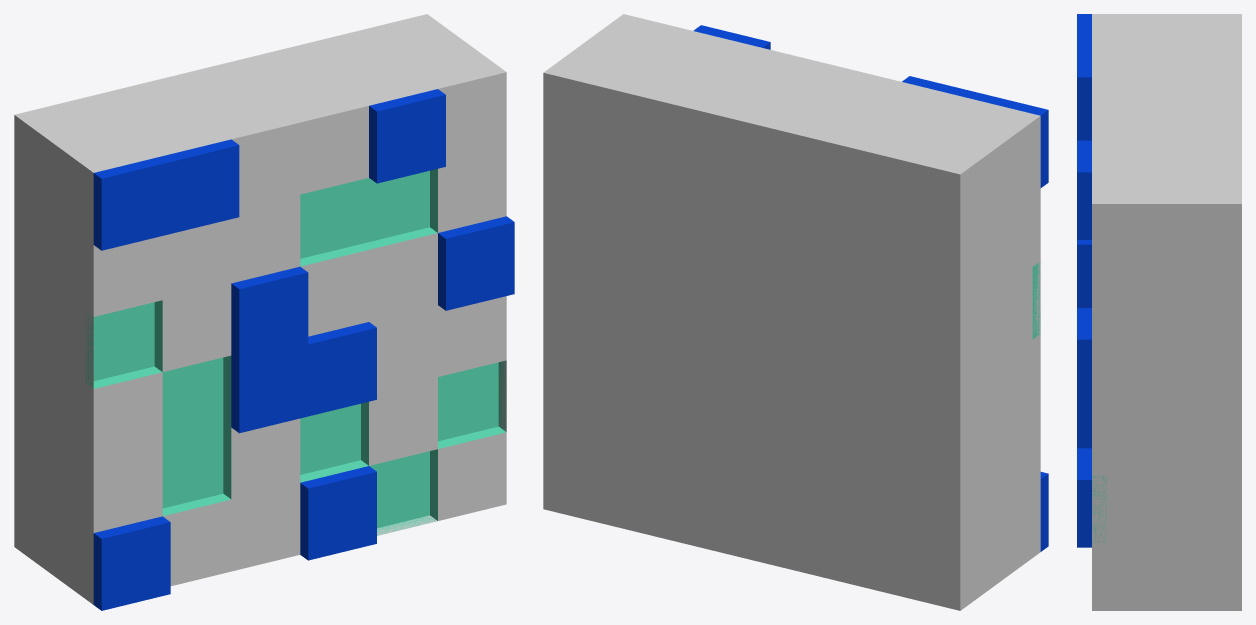
Rendered from Wall1_3x3.fbx.
3 renders of one model, left to right at view 1: azimuth 30°, elevation 25°; view 2: azimuth 150°, elevation 25°; view 3: azimuth 270°, elevation 25°, orthographic. The views are drawn at different scales.
Visible parts, largest first — view 1: Wall 3x3; view 2: Wall 3x3; view 3: Wall 3x3.
Part boxes in pixels (box(x1,y1,x2,y2)): Wall 3x3: box(14, 14, 514, 610); Wall 3x3: box(543, 14, 1048, 610); Wall 3x3: box(1077, 14, 1241, 610).
Size of the model in its own units: 300 by 300 by 110.
